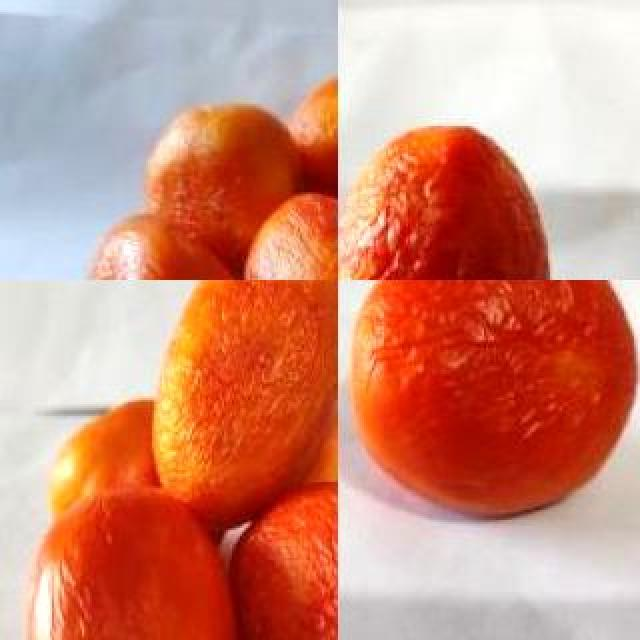Rotten_Tomato: (342, 280, 640, 530), (148, 280, 338, 534), (338, 112, 564, 280), (18, 480, 244, 640), (134, 94, 308, 262), (80, 206, 252, 280), (272, 68, 338, 230)
